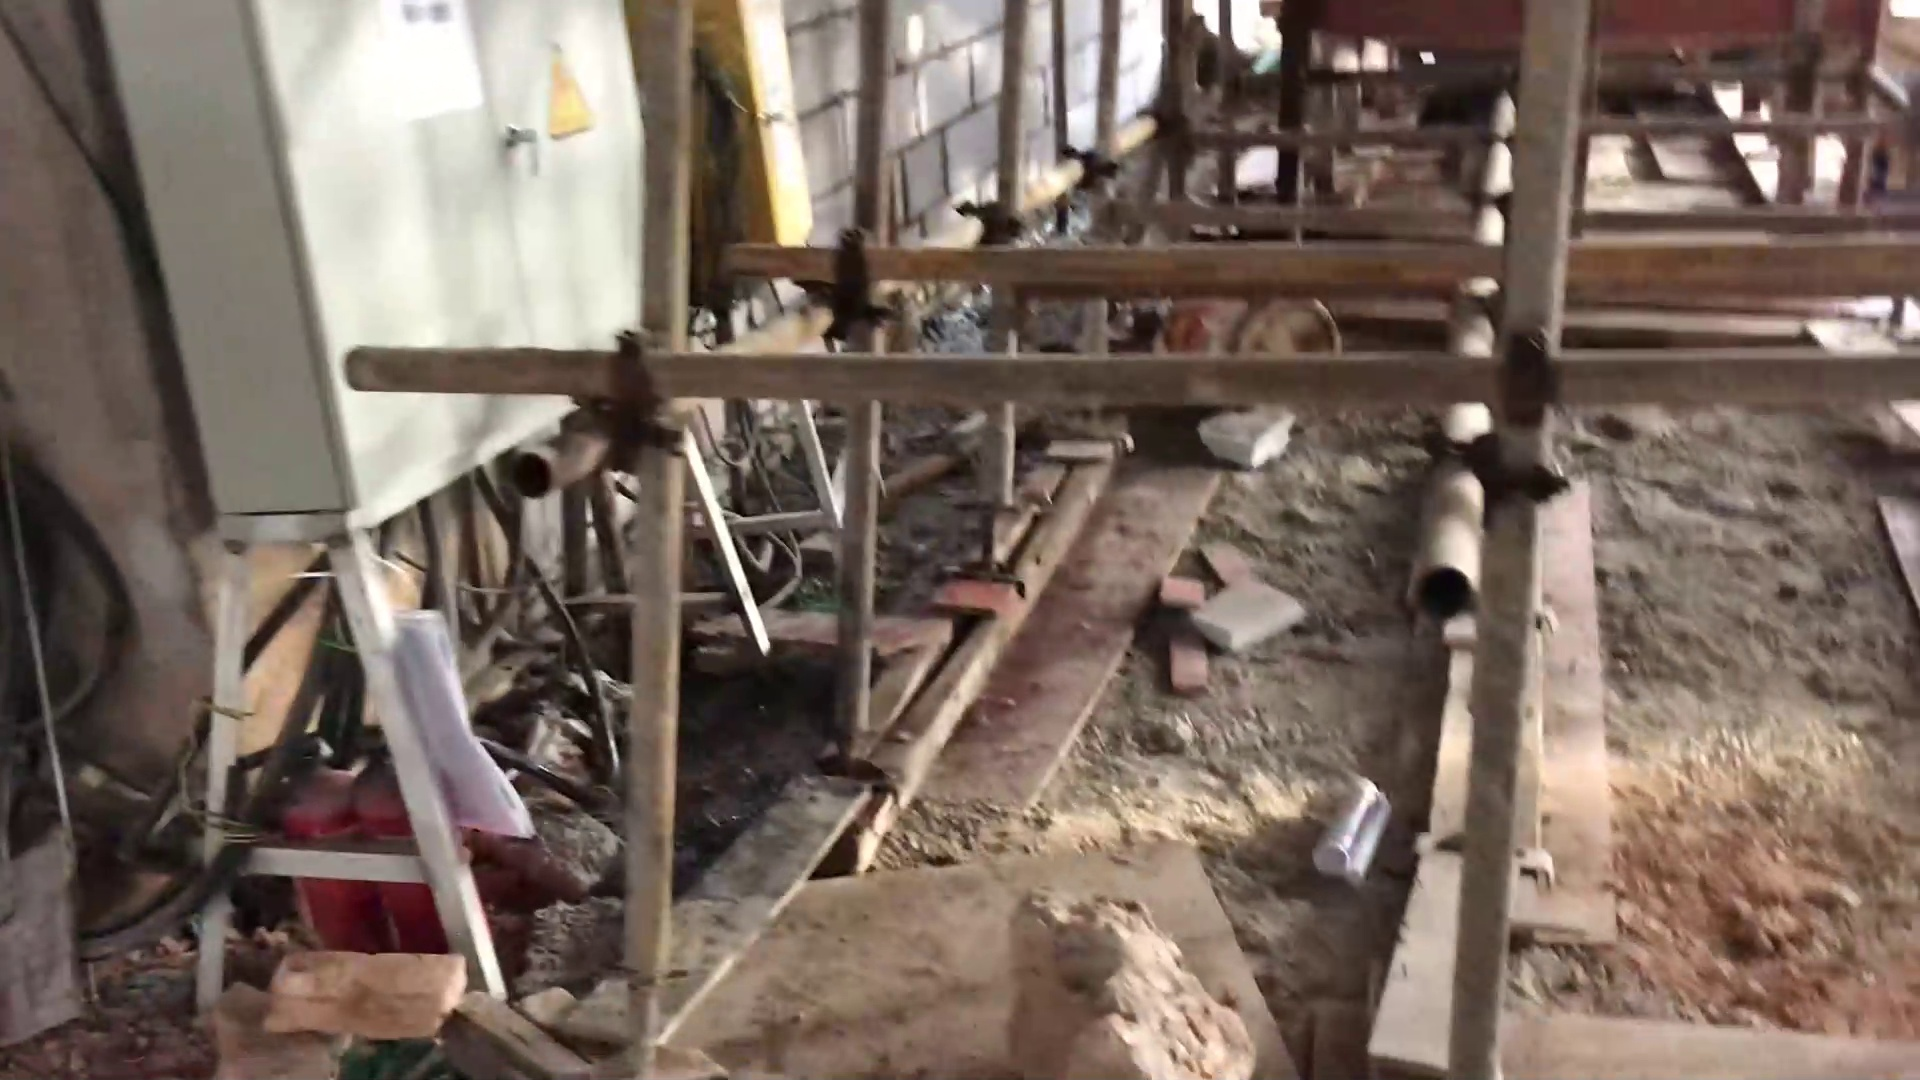ebox: (94, 1, 646, 546), (624, 1, 818, 258)
